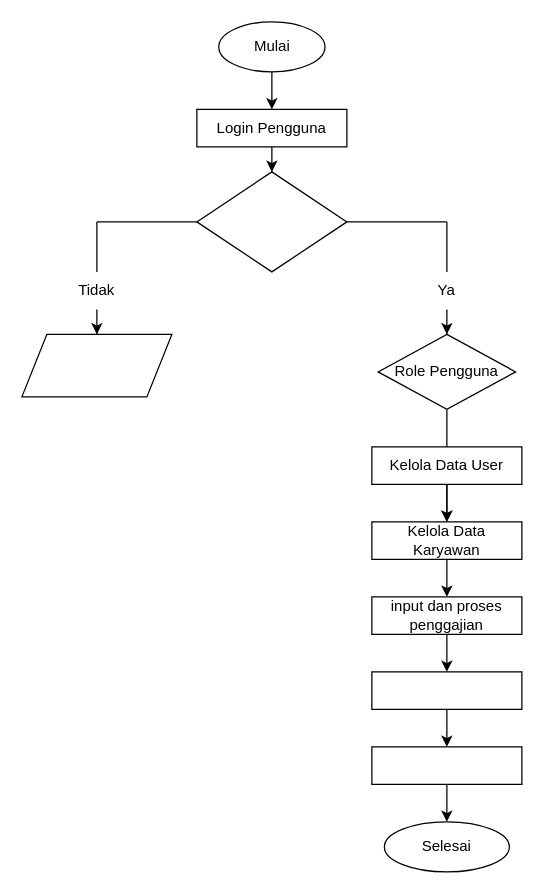
Some shapes in this 544 by 894 pixel diagram are drawn without their labels. The shapes that lost their labels are listed below. From the top down, each one's centre as x and y in pixels, then its label:
point (271, 221): Apakah Login Valid?
point (96, 365): Pesan Error
point (446, 690): Simpan Data Gaji
point (446, 765): Logout
